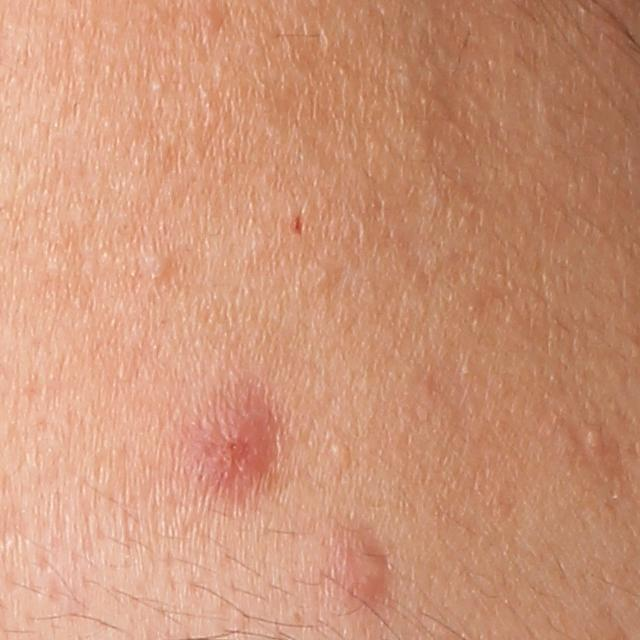comedo: (136, 248, 168, 283), (324, 438, 362, 466), (148, 74, 169, 99), (585, 428, 605, 454), (198, 10, 221, 31)
papule: (196, 397, 269, 489), (325, 527, 402, 609)
